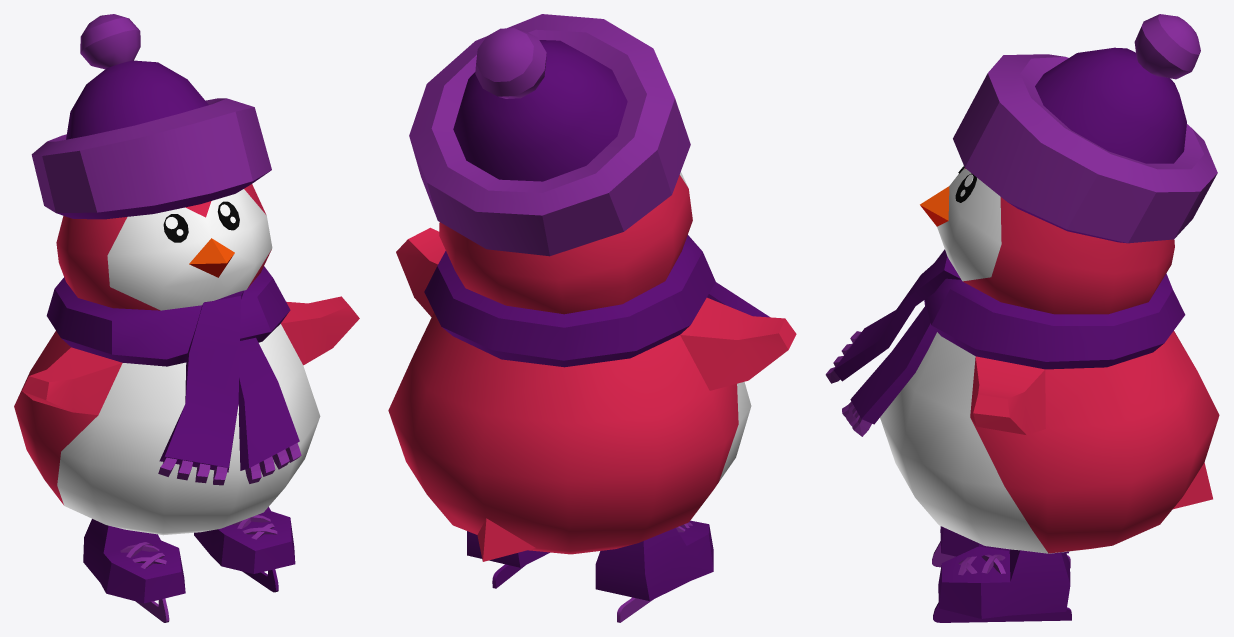
File: Mama Penguin.fbx
3 views of the same model, side by side, from view 1: azimuth 30°, elevation 25°; view 2: azimuth 150°, elevation 25°; view 3: azimuth 270°, elevation 25° (orthographic). The views are drawn at different scales.
Parts seen in each view (by area): view 1: group545300192, group1507517781, group902785975; view 2: group545300192, group1507517781, group902785975; view 3: group545300192, group902785975, group1507517781.
Boxes of the visible parts, x1,y1,x2,y2 form: group545300192: (14,14,359,535); group1507517781: (83,519,185,622); group902785975: (194,507,295,592); group545300192: (388,14,796,561); group1507517781: (595,520,713,622); group902785975: (467,531,549,588); group545300192: (825,14,1219,553); group902785975: (933,546,1071,622); group1507517781: (932,526,1070,568).
Size of the model in its own units: 20.07 by 30.18 by 18.73.
